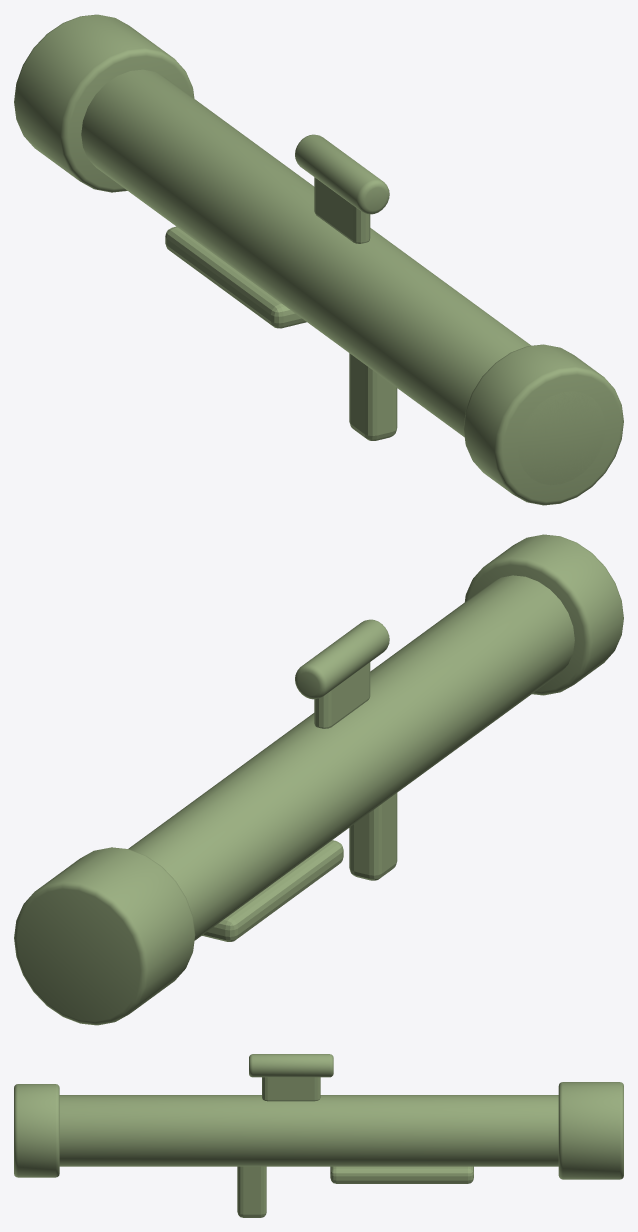
File: rocket.glb
The picture shows the model from 3 angles, top to bottom: view 1: azimuth 30°, elevation 25°; view 2: azimuth 150°, elevation 25°; view 3: azimuth 270°, elevation 25°; orthographic projection. The views are drawn at different scales.
Visible parts, largest first — view 1: Front collar; view 2: Front collar; view 3: Front collar.
Part boxes in pixels (x1,y1,x2,y2): Front collar: (14, 14, 623, 505); Front collar: (14, 534, 623, 1025); Front collar: (14, 1054, 623, 1217).
Bounding box in the file's own units: 0.15 × 0.2705 × 0.935.
